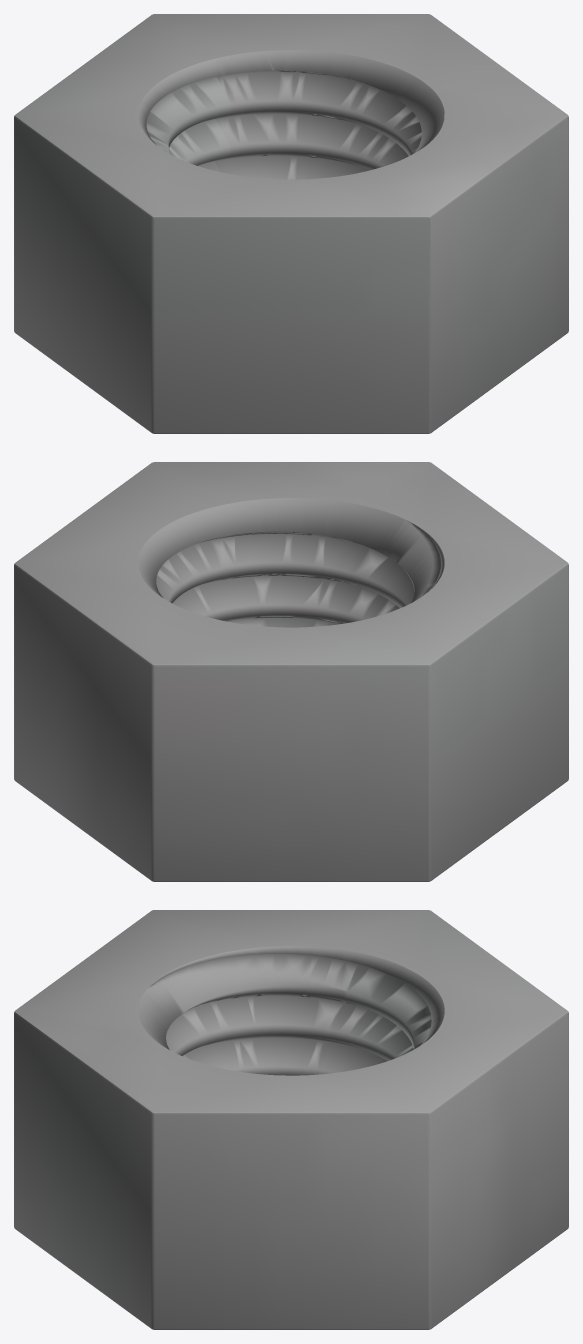
The model's file is factory_nut_m8_tight.glb.
3 views of the same model, one above another, from view 1: azimuth 30°, elevation 25°; view 2: azimuth 150°, elevation 25°; view 3: azimuth 270°, elevation 25° (orthographic).
Parts seen in each view (by area): view 1: part0; view 2: part0; view 3: part0.
Part boxes in pixels (x1=…): part0: x1=14, y1=14, x2=568, y2=433; part0: x1=14, y1=462, x2=568, y2=881; part0: x1=14, y1=910, x2=568, y2=1329.
Size of the model in its own units: 0.013 by 0.0065 by 0.015.
1 material, 1 textured.
